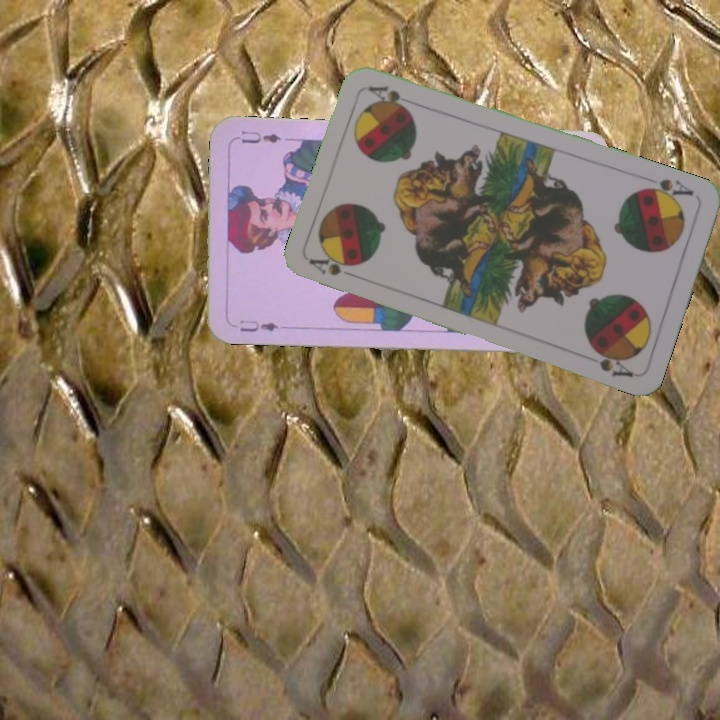EU: (236, 316, 281, 335)
SA: (638, 174, 696, 206), (306, 253, 364, 282)
